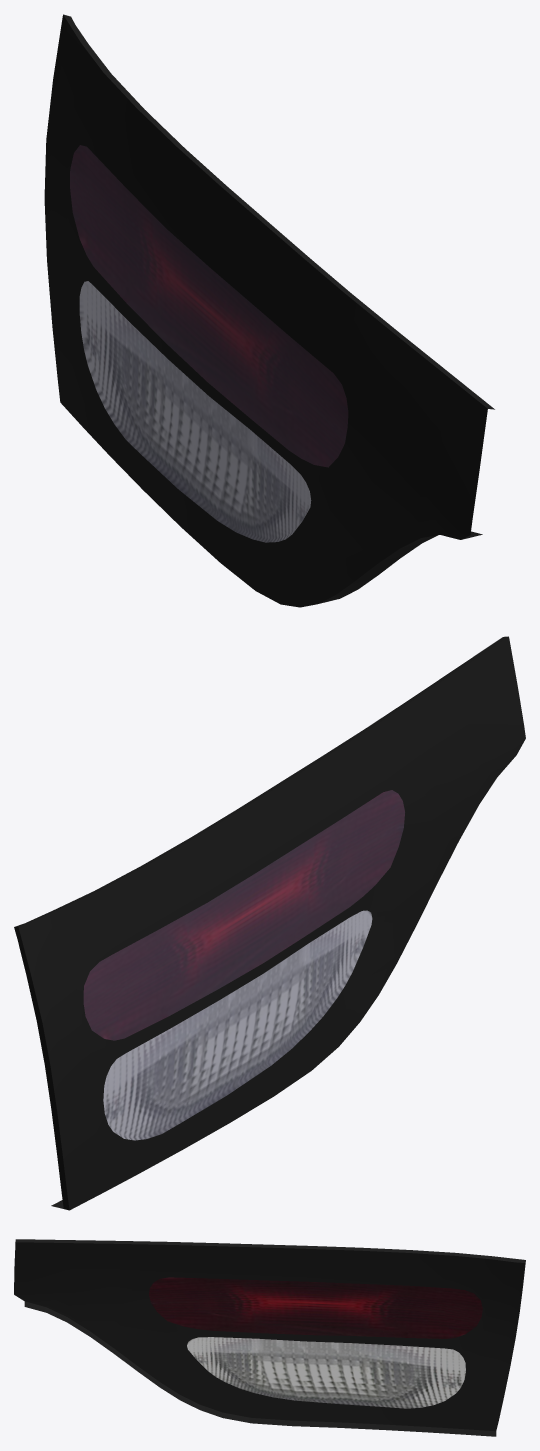
The picture shows the model from 3 angles, top to bottom: view 1: azimuth 30°, elevation 25°; view 2: azimuth 150°, elevation 25°; view 3: azimuth 270°, elevation 25°; orthographic projection. The views are drawn at different scales.
Visible parts, largest first — view 1: P353_20_541D_L_P353_20_541D_L_2_D, P353_20_541D_L_1_N_P353_20_541D_L, P353_20_541D_L_P353_20_541D_L_4_DTaSI, P353_20_541D_L_P353_20_541D_L_3_DTaSI; view 2: P353_20_541D_L_P353_20_541D_L_2_D, P353_20_541D_L_1_N_P353_20_541D_L, P353_20_541D_L_P353_20_541D_L_4_DTaSI, P353_20_541D_L_P353_20_541D_L_3_DTaSI; view 3: P353_20_541D_L_P353_20_541D_L_2_D, P353_20_541D_L_1_N_P353_20_541D_L.
Part boxes in pixels (x1,y1,x2,y2): P353_20_541D_L_P353_20_541D_L_2_D: (44,14,494,607); P353_20_541D_L_1_N_P353_20_541D_L: (70,145,348,542); P353_20_541D_L_P353_20_541D_L_4_DTaSI: (70,145,347,467); P353_20_541D_L_P353_20_541D_L_3_DTaSI: (80,281,310,542); P353_20_541D_L_P353_20_541D_L_2_D: (14,636,525,1210); P353_20_541D_L_1_N_P353_20_541D_L: (83,790,404,1140); P353_20_541D_L_P353_20_541D_L_4_DTaSI: (84,790,404,1040); P353_20_541D_L_P353_20_541D_L_3_DTaSI: (103,910,371,1140); P353_20_541D_L_P353_20_541D_L_2_D: (14,1239,525,1436); P353_20_541D_L_1_N_P353_20_541D_L: (149,1277,482,1408).
Size of the model in its own units: 7.13 by 21.95 by 56.81.
